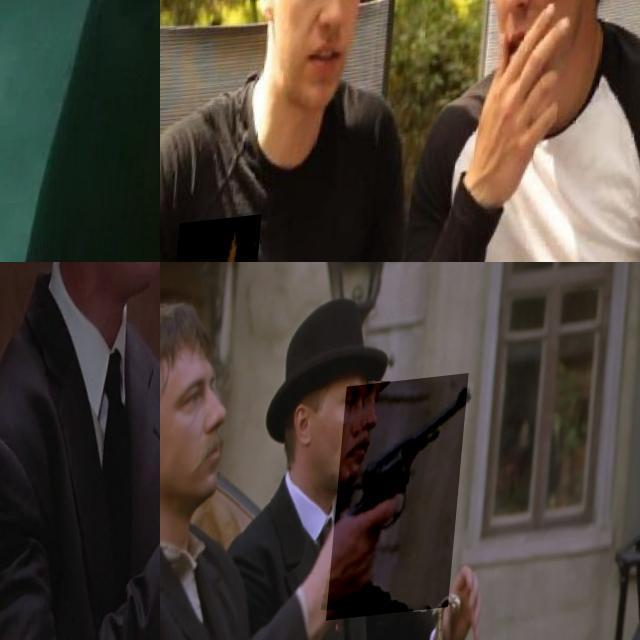-: (174, 217, 269, 262)
gun-knife-thesis - v11 Yolov5 augmented: (334, 382, 472, 626)
